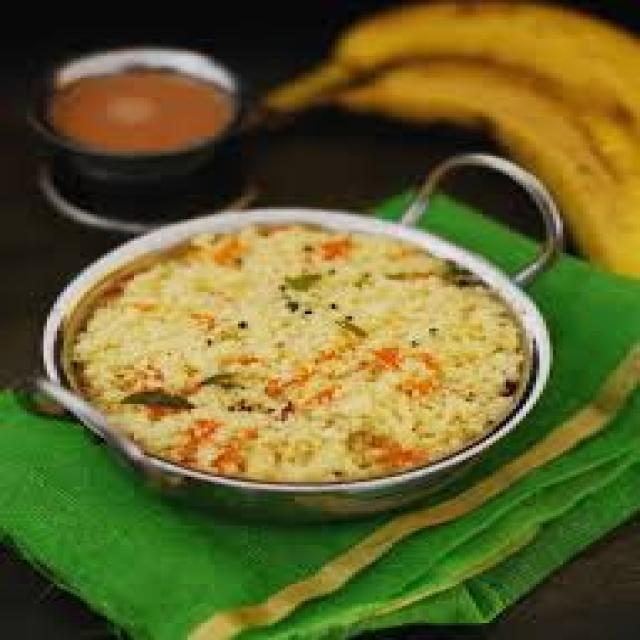UPMA: (64, 224, 519, 477)
